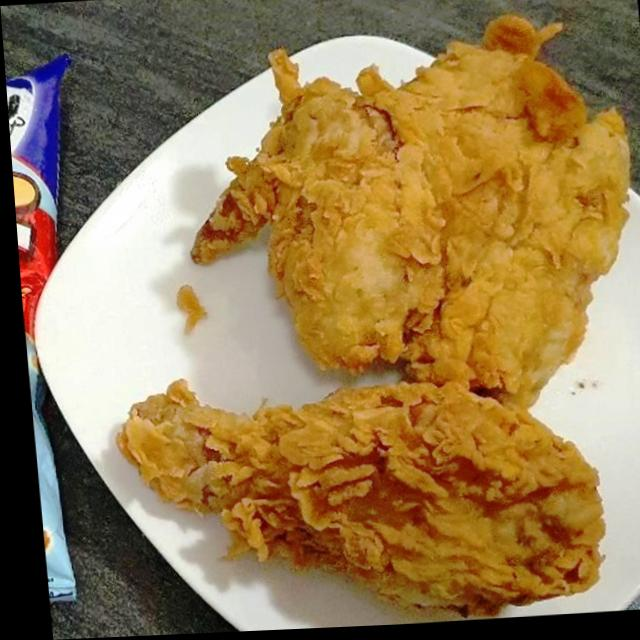fried_chicken: (168, 5, 640, 408), (119, 365, 615, 633)
